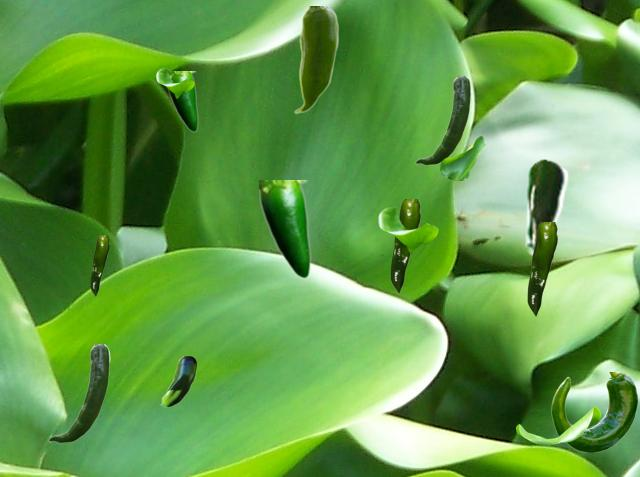green_chili: (551, 372, 637, 451), (48, 344, 109, 442), (259, 180, 310, 278), (415, 76, 470, 164), (293, 6, 337, 113), (522, 158, 568, 256), (390, 199, 419, 292), (527, 222, 556, 315), (167, 71, 197, 131), (160, 356, 195, 406), (90, 235, 108, 295)
